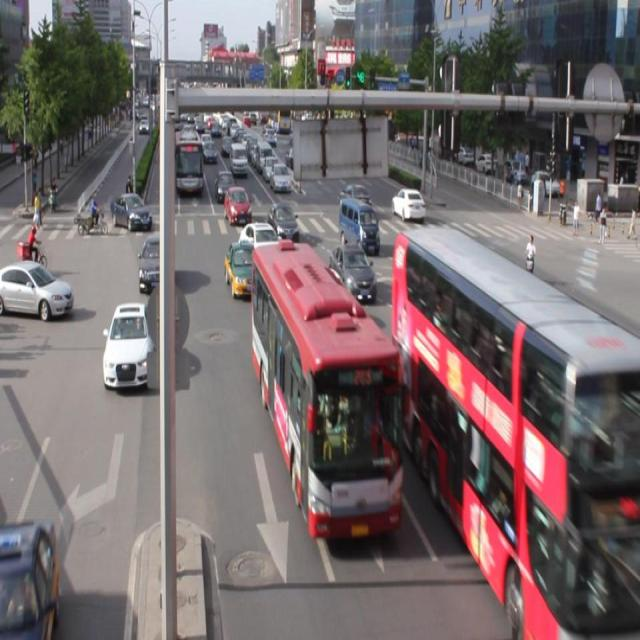car: (1, 520, 59, 640), (103, 300, 154, 387), (447, 240, 507, 310), (328, 242, 376, 301), (224, 240, 261, 298), (139, 232, 171, 294), (239, 221, 282, 263), (268, 200, 299, 242)
truck: (339, 197, 379, 253)
van: (394, 228, 640, 640), (253, 243, 400, 532)
